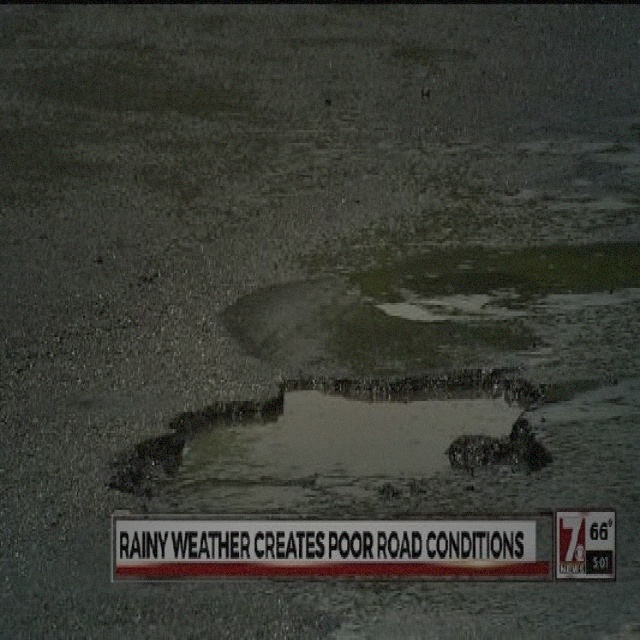pothole: (111, 367, 554, 516)
